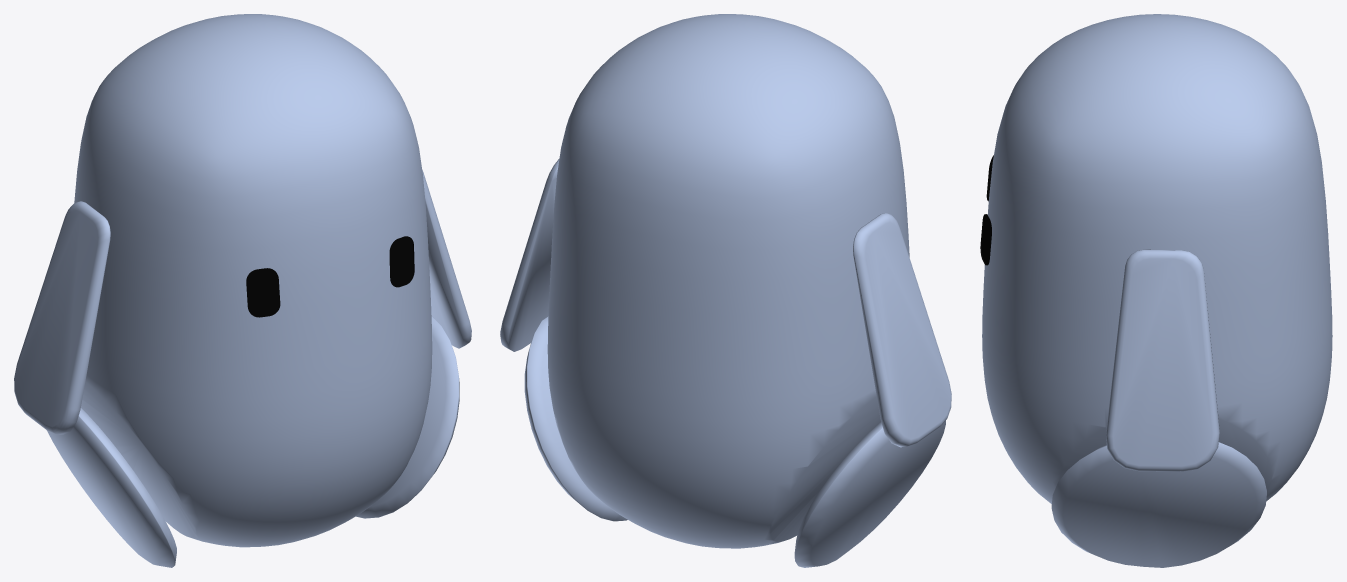
Rendered from TR_CHARACTER.fbx.
The picture shows the model from 3 angles, left to right: view 1: azimuth 30°, elevation 25°; view 2: azimuth 150°, elevation 25°; view 3: azimuth 270°, elevation 25°; orthographic projection. The views are drawn at different scales.
Visible parts, largest first — view 1: Cube; view 2: Cube; view 3: Cube.
Part boxes in pixels (x1,y1,x2,y2): Cube: (14,14,471,567); Cube: (500,14,951,567); Cube: (980,14,1332,567).
Size of the model in its own units: 215 by 250 by 163.
